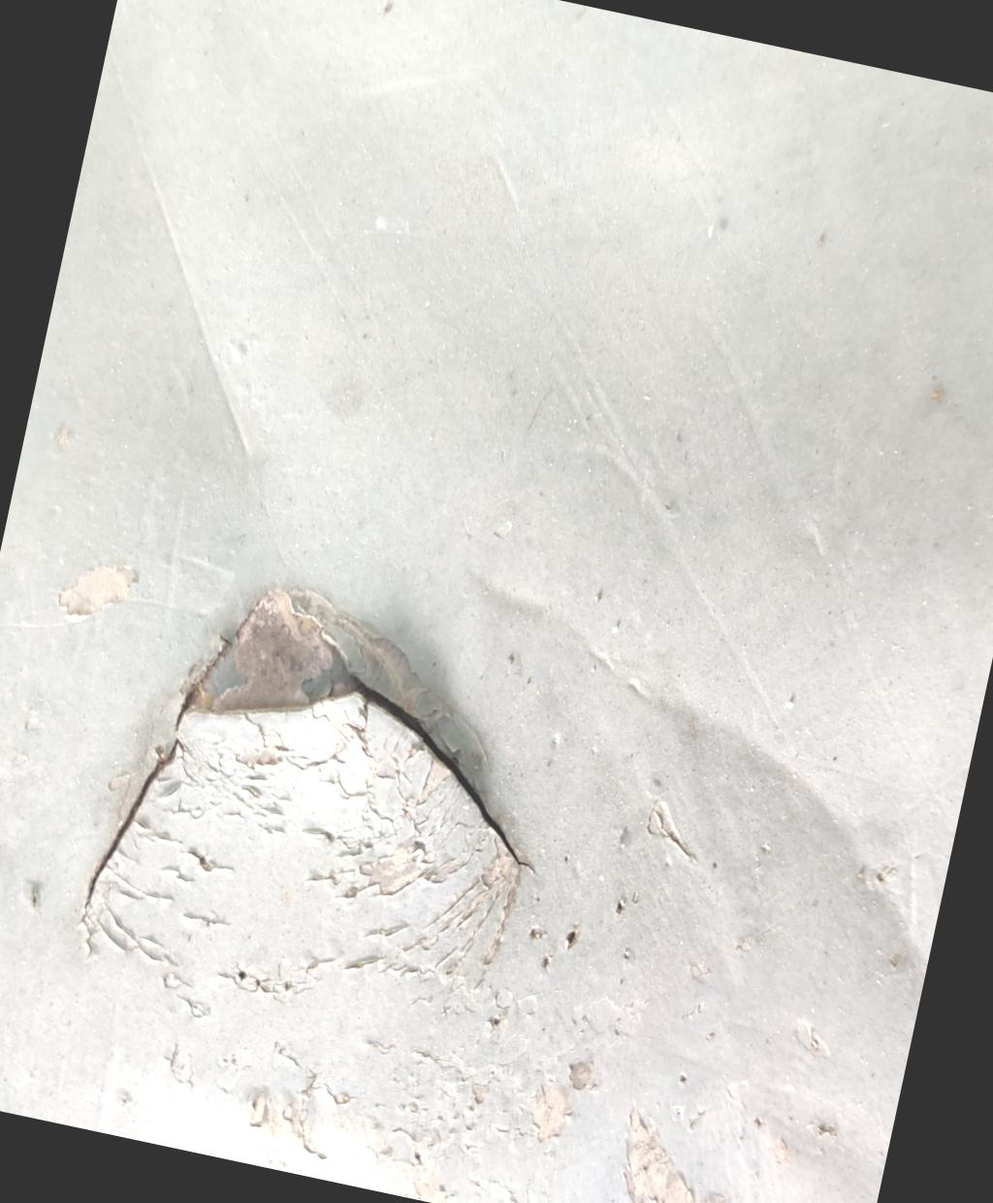crack: (93, 99, 596, 736)
